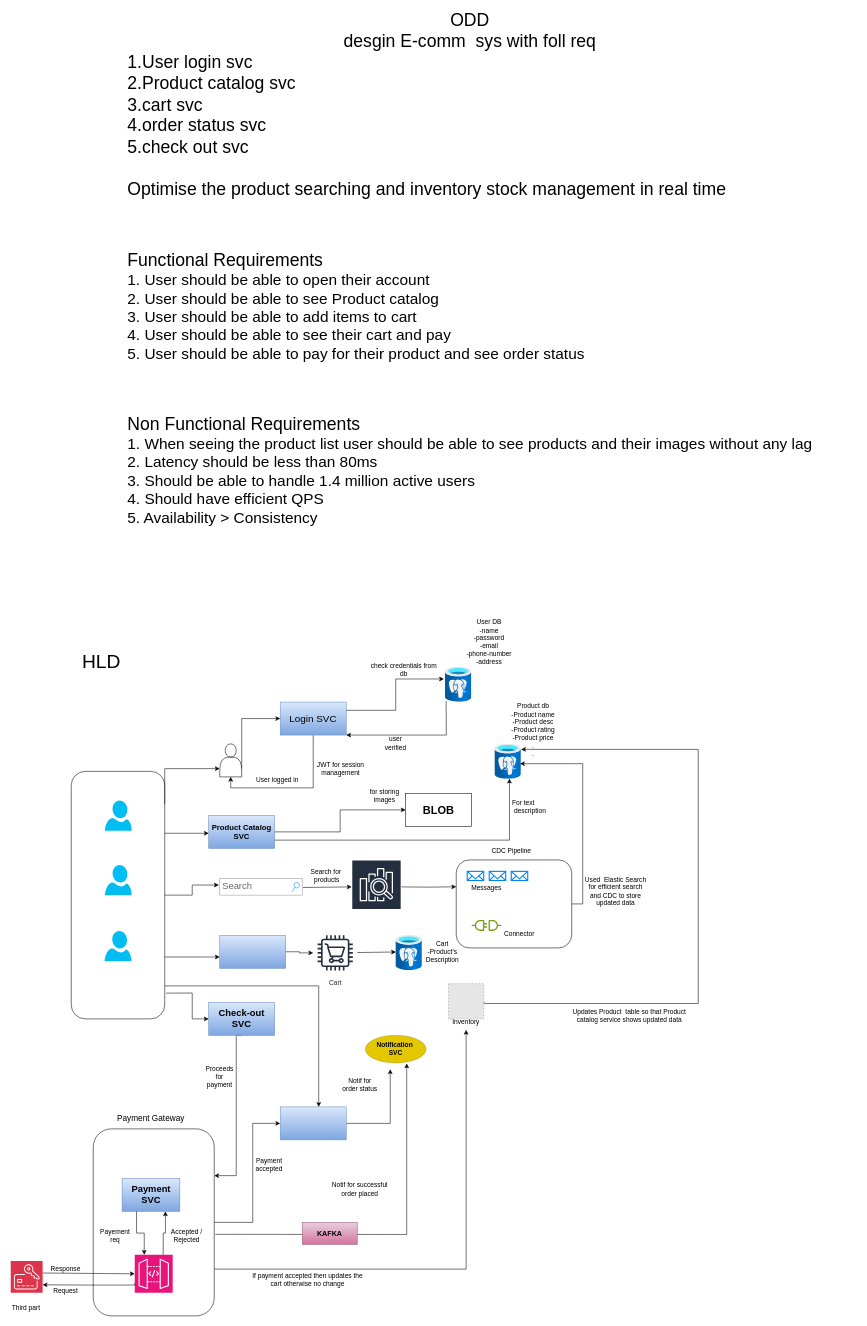
Image size: 867x1326. Some labels were removed from this diagram. Grey dashed boxes stand in for pictures. Here are the shapes that lost their labels. From the top down, the centre of each, then its label:
(230,760): User
(376,892): Amazon Elasticsearch Service
(252,951): Cart SVC
(313,1123): Order Status SVC
